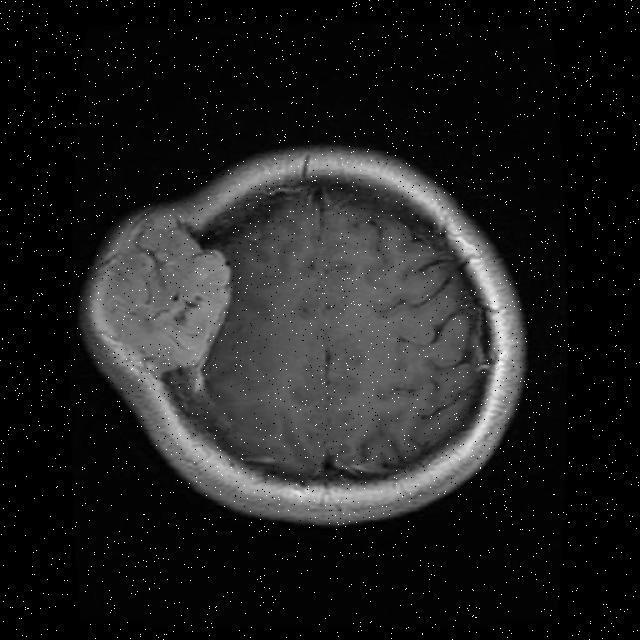Meningioma: (83, 213, 229, 378)
